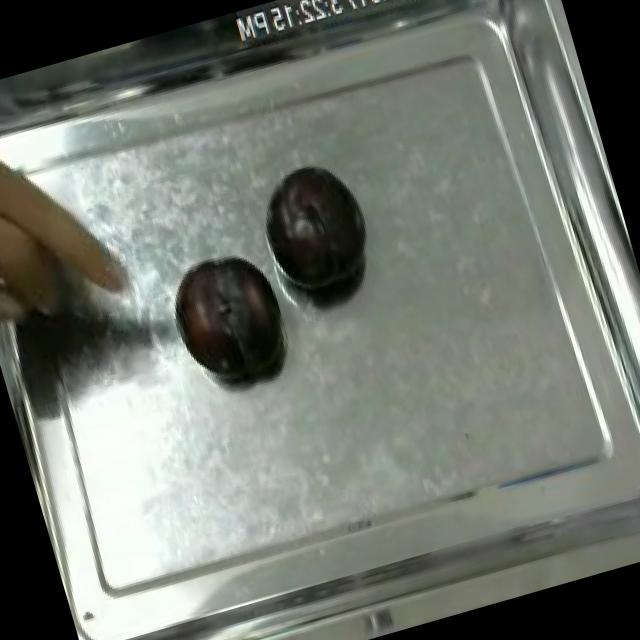Fruit: (158, 235, 302, 399), (250, 147, 386, 306)
